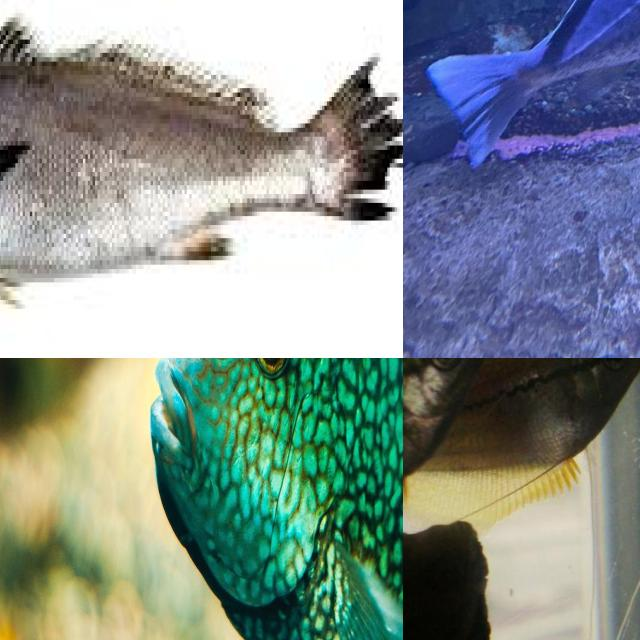fish: (0, 0, 403, 358), (0, 358, 403, 640), (424, 0, 640, 171), (403, 358, 490, 529)
